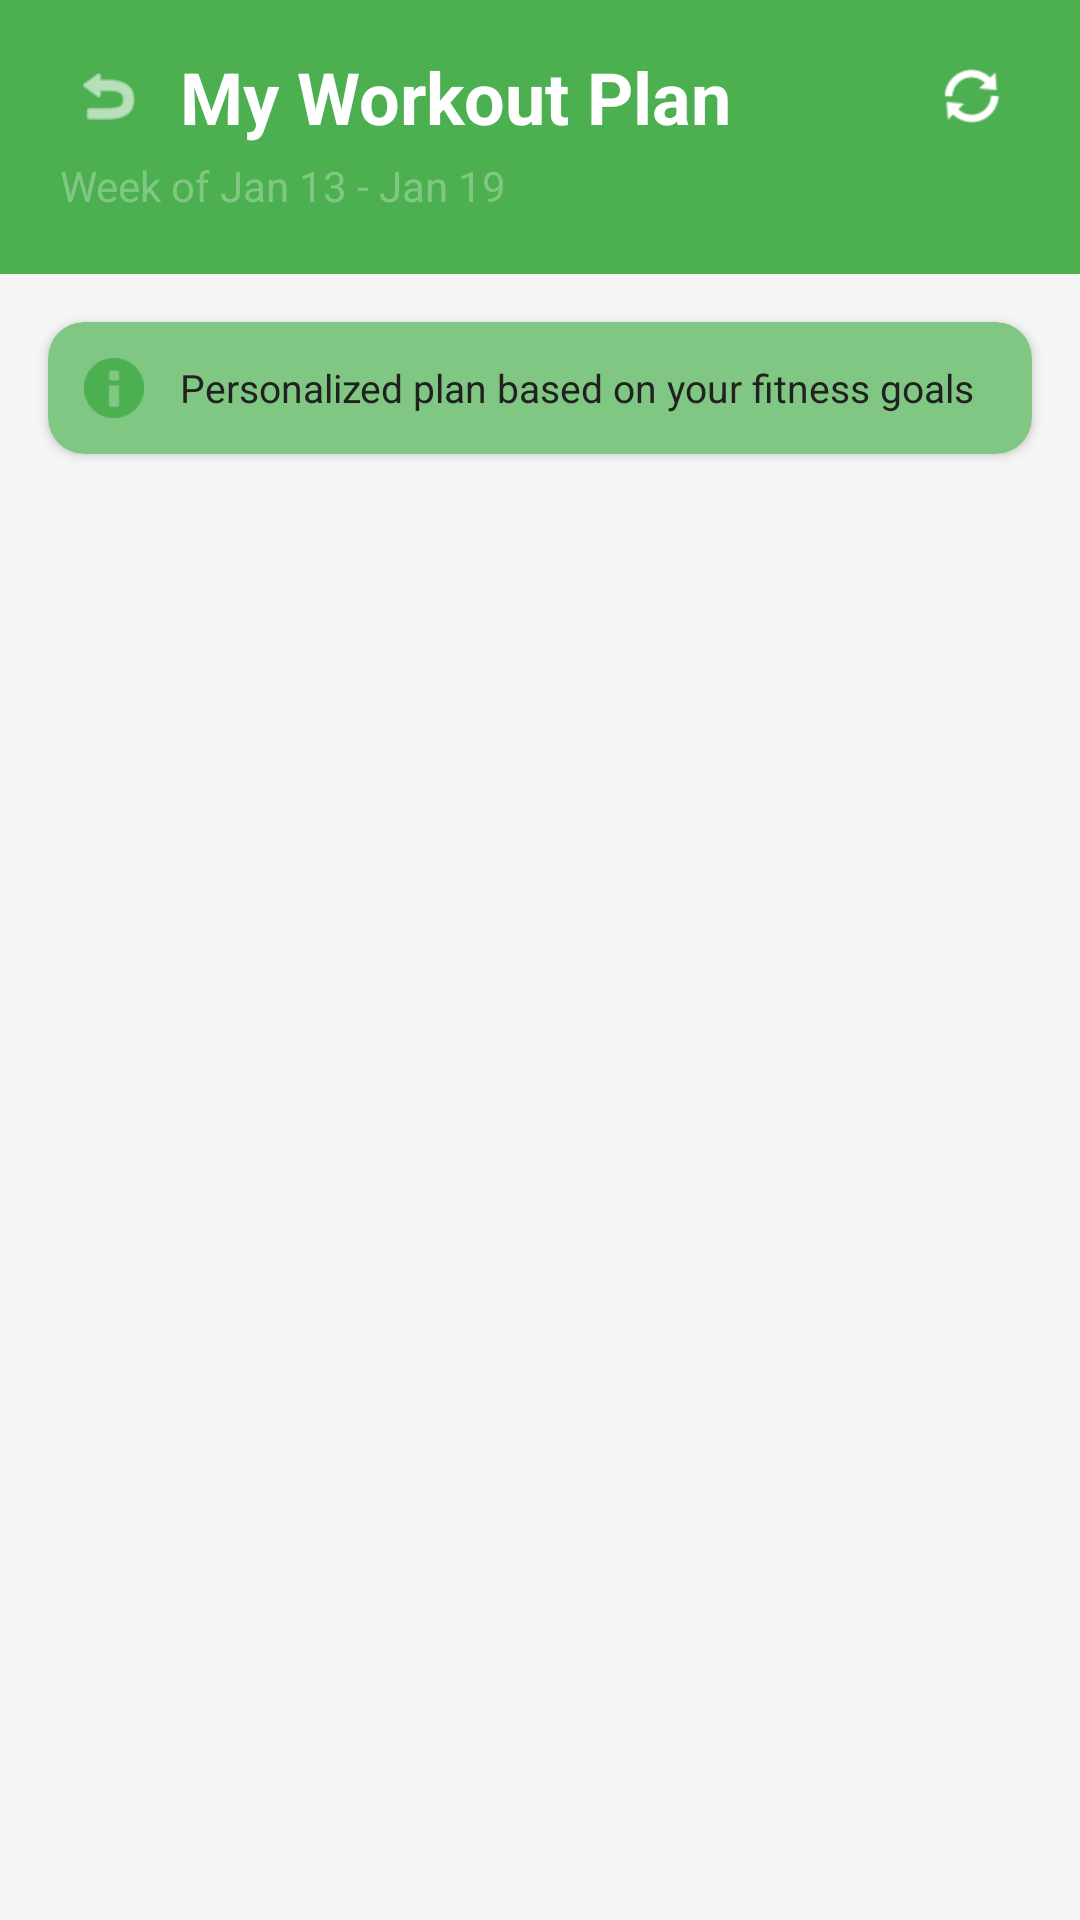

Locate icon controls on the screen. Image size 1080px×1920px, boxes as box=[x1, y1, x2, y2].
Back: box=[83, 73, 135, 120]
Generate New Plan: box=[945, 69, 999, 123]
info: box=[84, 358, 144, 418]
